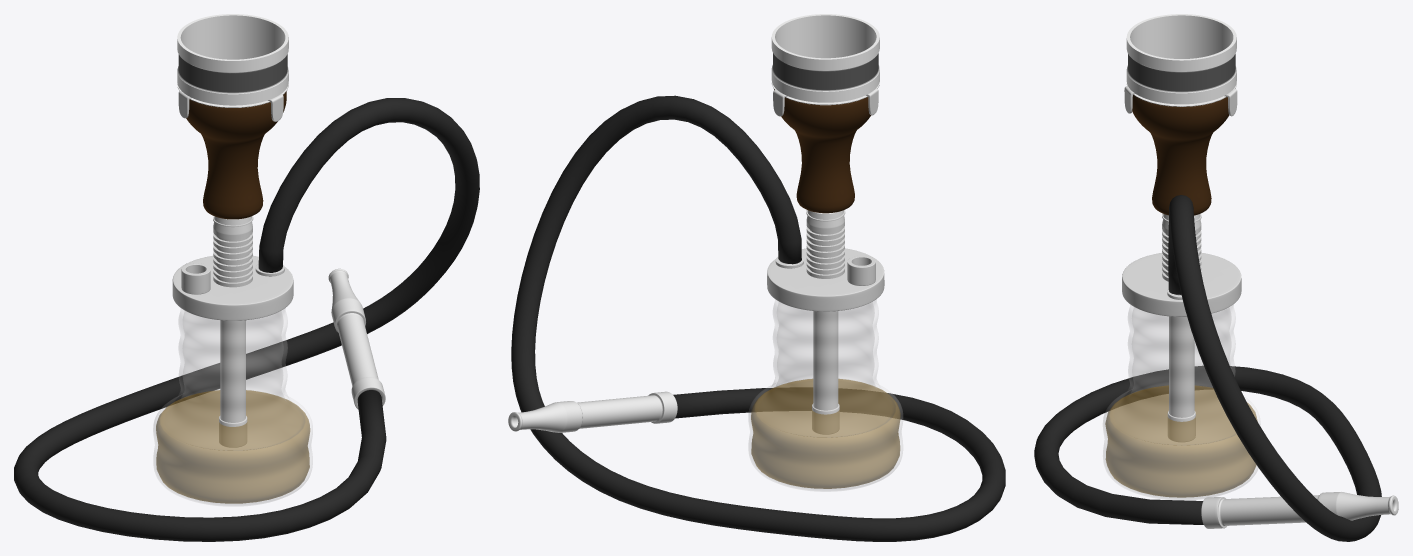
File: hookah.glb
The picture shows the model from 3 angles, left to right: view 1: azimuth 30°, elevation 25°; view 2: azimuth 150°, elevation 25°; view 3: azimuth 270°, elevation 25°; orthographic projection. The views are drawn at different scales.
Visible parts, largest first — view 1: shlang_16, flask_4, liquid_9, Caloud_1, Chasha_3, krishka_5, Mundshtuk_10, shahta_2_13, shahta_1_12, produv_11, shahta_2.001_14; view 2: shlang_16, flask_4, liquid_9, Caloud_1, Chasha_3, Mundshtuk_10, krishka_5, shahta_2_13, shahta_1_12, produv_11, shahta_2.001_14; view 3: shlang_16, flask_4, liquid_9, Caloud_1, Chasha_3, krishka_5, Mundshtuk_10, shahta_2_13, shahta_2.001_14, shahta_1_12.
Boxes of the visible parts, left/top/right/bottom form: shlang_16: left=14, top=98, right=479, bottom=541; flask_4: left=153, top=309, right=312, bottom=506; liquid_9: left=156, top=390, right=310, bottom=503; Caloud_1: left=177, top=14, right=288, bottom=105; Chasha_3: left=186, top=91, right=286, bottom=219; krishka_5: left=172, top=255, right=293, bottom=320; Mundshtuk_10: left=328, top=268, right=385, bottom=409; shahta_2_13: left=220, top=320, right=245, bottom=422; shahta_1_12: left=213, top=222, right=252, bottom=287; produv_11: left=181, top=263, right=210, bottom=294; shahta_2.001_14: left=219, top=416, right=247, bottom=447; shlang_16: left=511, top=95, right=1005, bottom=541; flask_4: left=748, top=299, right=902, bottom=491; liquid_9: left=751, top=379, right=900, bottom=488; Caloud_1: left=771, top=14, right=879, bottom=102; Chasha_3: left=774, top=89, right=871, bottom=213; Mundshtuk_10: left=508, top=391, right=677, bottom=432; krishka_5: left=767, top=248, right=884, bottom=311; shahta_2_13: left=813, top=311, right=838, bottom=410; shahta_1_12: left=806, top=215, right=844, bottom=278; produv_11: left=847, top=255, right=875, bottom=285; shahta_2.001_14: left=812, top=403, right=839, bottom=434; shlang_16: left=1034, top=195, right=1381, bottom=541; flask_4: left=1103, top=305, right=1260, bottom=500; liquid_9: left=1105, top=385, right=1257, bottom=497; Caloud_1: left=1126, top=14, right=1236, bottom=104; Chasha_3: left=1132, top=95, right=1228, bottom=215; krishka_5: left=1122, top=252, right=1241, bottom=316; Mundshtuk_10: left=1201, top=492, right=1398, bottom=528; shahta_2_13: left=1169, top=316, right=1194, bottom=417; shahta_2.001_14: left=1167, top=411, right=1195, bottom=441; shahta_1_12: left=1162, top=219, right=1201, bottom=281.
Size of the model in its own units: 0.2983 by 0.2747 by 0.2081.
8 materials, 1 textured.
